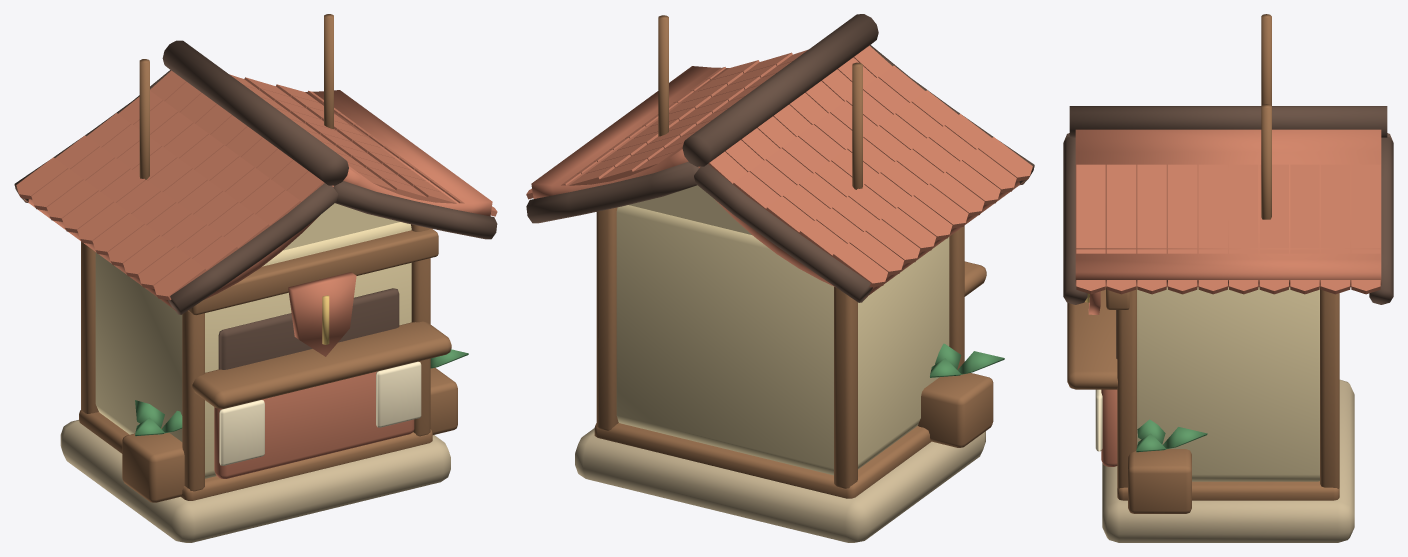
File: booth_alarm.glb
3 renders of one model, left to right at view 1: azimuth 30°, elevation 25°; view 2: azimuth 150°, elevation 25°; view 3: azimuth 270°, elevation 25°, orthographic. The views are drawn at different scales.
Parts seen in each view (by area): view 1: booth_alarm_crafted_mesh; view 2: booth_alarm_crafted_mesh; view 3: booth_alarm_crafted_mesh.
Boxes of the visible parts, left/top/right/bottom form: booth_alarm_crafted_mesh: left=14, top=14, right=497, bottom=542; booth_alarm_crafted_mesh: left=526, top=14, right=1034, bottom=542; booth_alarm_crafted_mesh: left=1063, top=14, right=1393, bottom=542.
Size of the model in its own units: 2.57 by 3.05 by 2.17.
